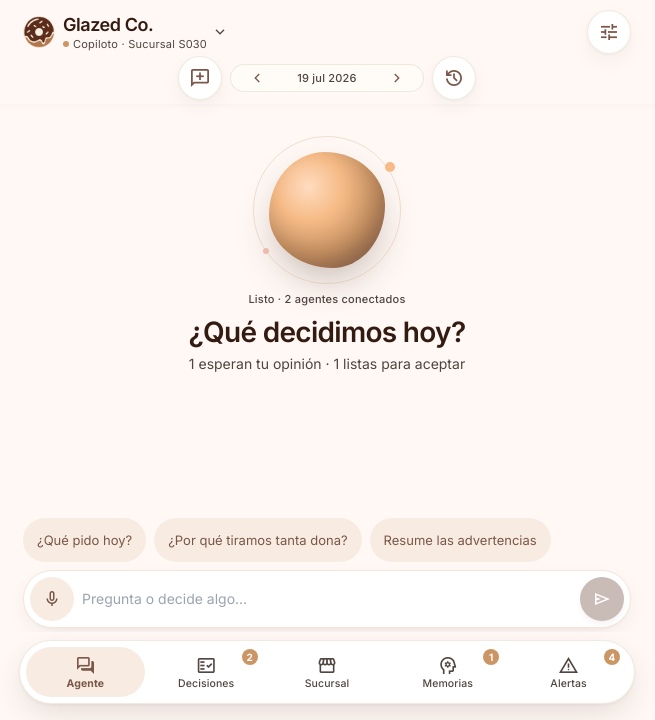
Test case: Copiloto (/copiloto) matches Copiloto.dc.html › Sucursal: header with the store code, tabs, expected/real cards, weather, context, tiles and ranges
Click the button "Sucursal" at (327, 672), box [268,647,386,697]
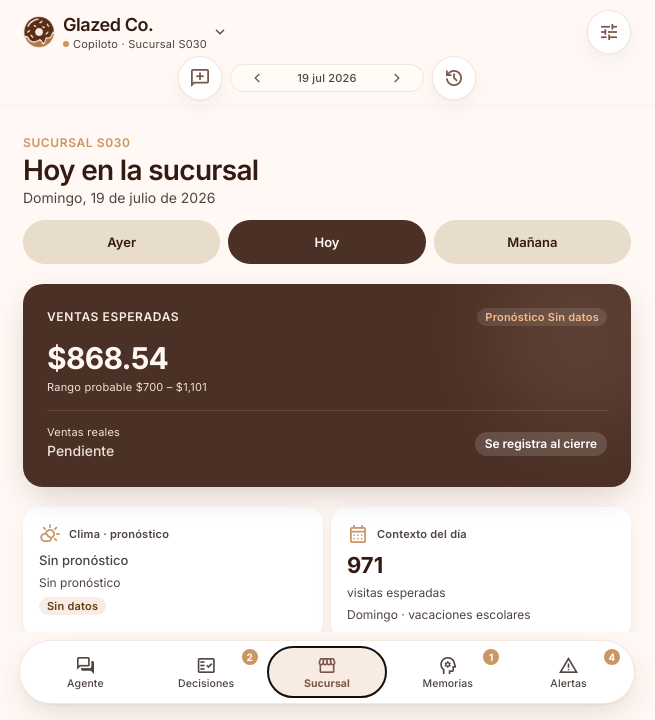
Expected: the text "Sucursal S030" is shown, [23,135,130,150]
Expected: the element named "Día" is shown, [23,220,631,264]
Expected: the tab "Ayer" is shown, [23,220,220,264]
